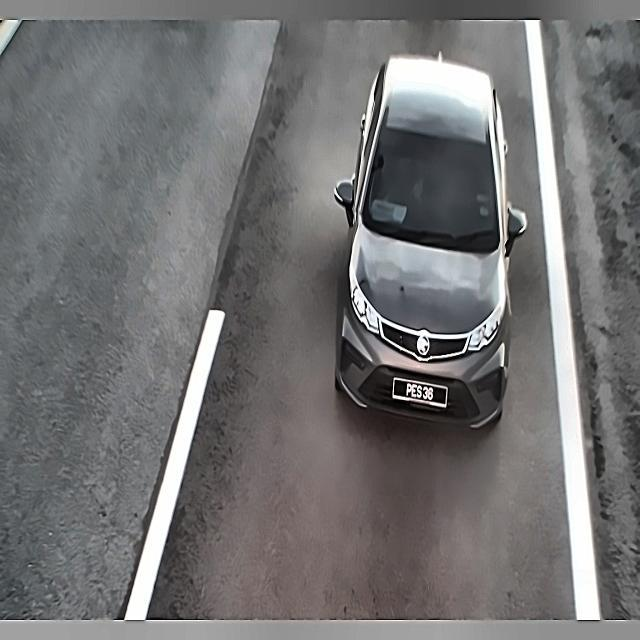car: (390, 370, 452, 411)
